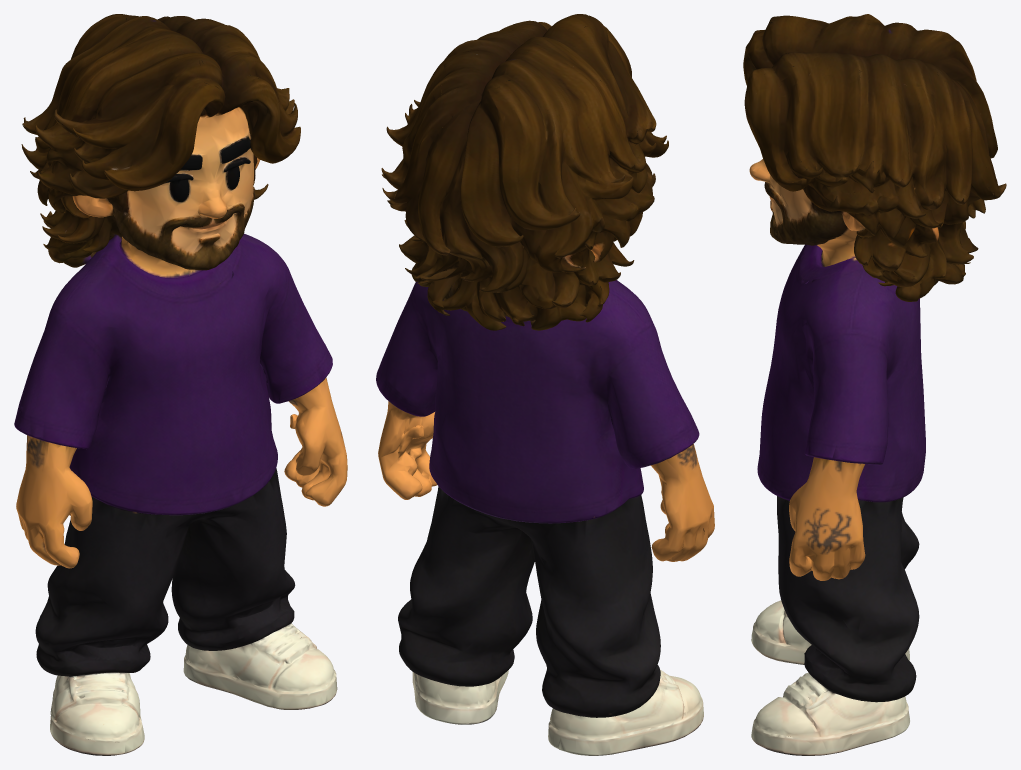
Rendered from dennis.glb.
3 views of the same model, side by side, from view 1: azimuth 30°, elevation 25°; view 2: azimuth 150°, elevation 25°; view 3: azimuth 270°, elevation 25° (orthographic).
Visible parts, largest first — view 1: Dennis_new_clean; view 2: Dennis_new_clean; view 3: Dennis_new_clean.
Boxes of the visible parts, x1,y1,x2,y2 form: Dennis_new_clean: (14, 14, 347, 755); Dennis_new_clean: (376, 14, 714, 755); Dennis_new_clean: (743, 14, 1006, 755).
Bounding box in the file's own units: 0.8408 × 1.7 × 0.6063.
Materials: 1 (1 with a texture image).
